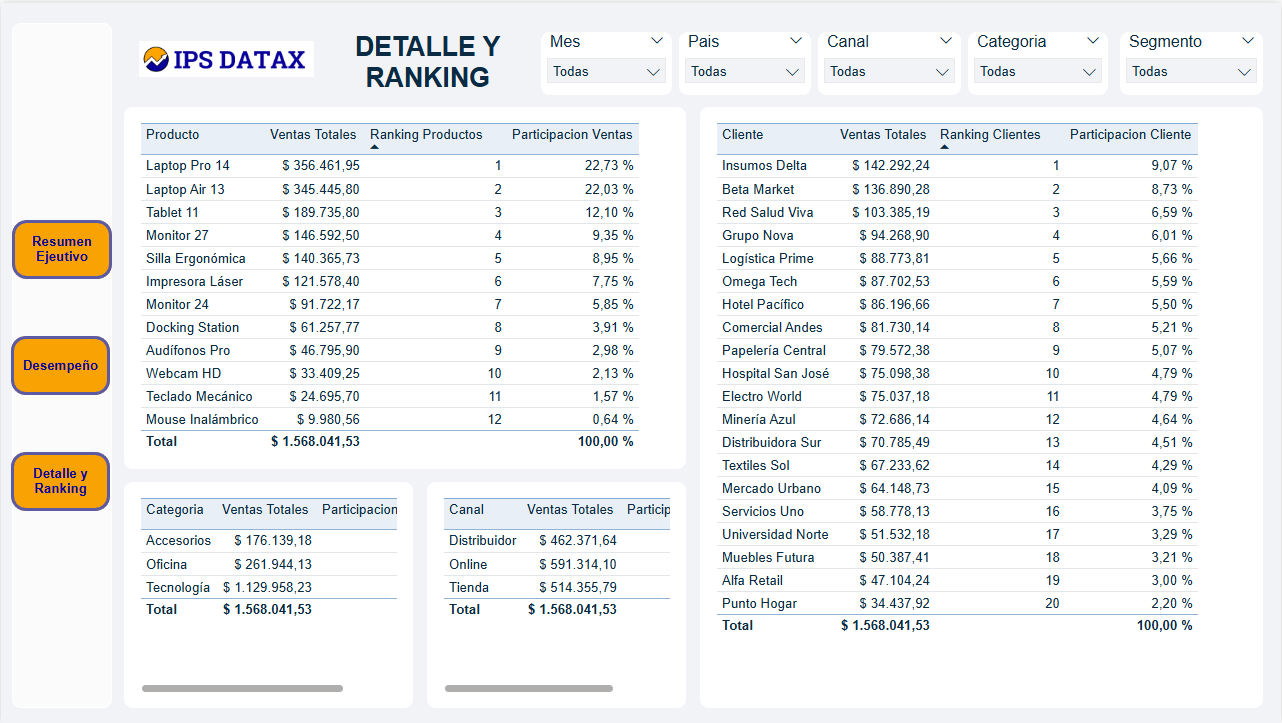

The dashboard page shown, as its layout file describes it:
{"tool":"powerbi","page":{"name":"Detalle y Ranking","canvas":[1280,720],"ordinal":2},"visuals":[{"type":"shape","box":[11.1,19.9,99.5,685.3],"z":0},{"type":"image","box":[122.8,19.9,205.6,72.4],"z":1000},{"type":"slicer","fields":{"Values":["Calendario.Jerarquía de fechas.Mes"]},"box":[539.8,29.2,131.3,63.2],"z":2000},{"type":"slicer","fields":{"Values":["TblDimClienteDirty.Pais"]},"box":[677.9,29.2,132.3,63.2],"z":3000},{"type":"slicer","fields":{"Values":["TblDimCanalDirty.Canal"]},"box":[817,29.2,143,63.2],"z":4000},{"type":"slicer","fields":{"Values":["TblDimProductoDirty.Categoria"]},"box":[966.8,29.2,140.1,63.2],"z":5000},{"type":"slicer","fields":{"Values":["TblDimClienteDirty.Segmento"]},"box":[1118.5,29.2,143,63.2],"z":6000},{"type":"textbox","box":[328.4,29.4,196.2,63],"z":8000},{"type":"actionButton","box":[11.4,216.6,99.2,59.3],"z":9000},{"type":"actionButton","box":[10.3,332.8,99.2,59.3],"z":10000},{"type":"actionButton","box":[10.3,449.1,99.2,59.3],"z":11000},{"type":"tableEx","fields":{"Values":["Producto.Producto","Medidas.Ventas Totales","Medidas.Ranking de Productos","Medidas.Participacion Ventas"]},"box":[123,103.6,562.3,362.6],"z":13002},{"type":"tableEx","fields":{"Values":["Cliente.Cliente","Medidas.Ventas Totales","Medidas.Ranking de Clientes","Medidas.Participacion Cliente"]},"box":[699.4,103.6,562.3,601.1],"z":13003},{"type":"tableEx","fields":{"Values":["Producto.Categoria","Medidas.Ventas Totales","Medidas.Participacion Categoria"]},"box":[123,479.2,289.2,225.6],"z":13004},{"type":"tableEx","fields":{"Values":["Canal.Canal","Medidas.Ventas Totales","Medidas.Participacion Canal"]},"box":[426.3,479.2,259,225.6],"z":13005}]}

Visuals, with their boxes in screenshot pixels (x1, y1, x2, y2), scaled from the page's 1280x720 canvas onto the 1282x723 screenshot:
shape: locate(11, 20, 111, 708)
image: locate(123, 20, 329, 93)
slicer - Calendario.Jerarquía de fechas.Mes: locate(541, 29, 672, 93)
slicer - TblDimClienteDirty.Pais: locate(679, 29, 811, 93)
slicer - TblDimCanalDirty.Canal: locate(818, 29, 961, 93)
slicer - TblDimProductoDirty.Categoria: locate(968, 29, 1109, 93)
slicer - TblDimClienteDirty.Segmento: locate(1120, 29, 1263, 93)
textbox: locate(329, 30, 525, 93)
actionButton: locate(11, 218, 111, 277)
actionButton: locate(10, 334, 110, 394)
actionButton: locate(10, 451, 110, 511)
tableEx - Producto.Producto x Medidas.Ventas Totales: locate(123, 104, 686, 468)
tableEx - Cliente.Cliente x Medidas.Ventas Totales: locate(700, 104, 1264, 708)
tableEx - Producto.Categoria x Medidas.Ventas Totales: locate(123, 481, 413, 708)
tableEx - Canal.Canal x Medidas.Ventas Totales: locate(427, 481, 686, 708)
